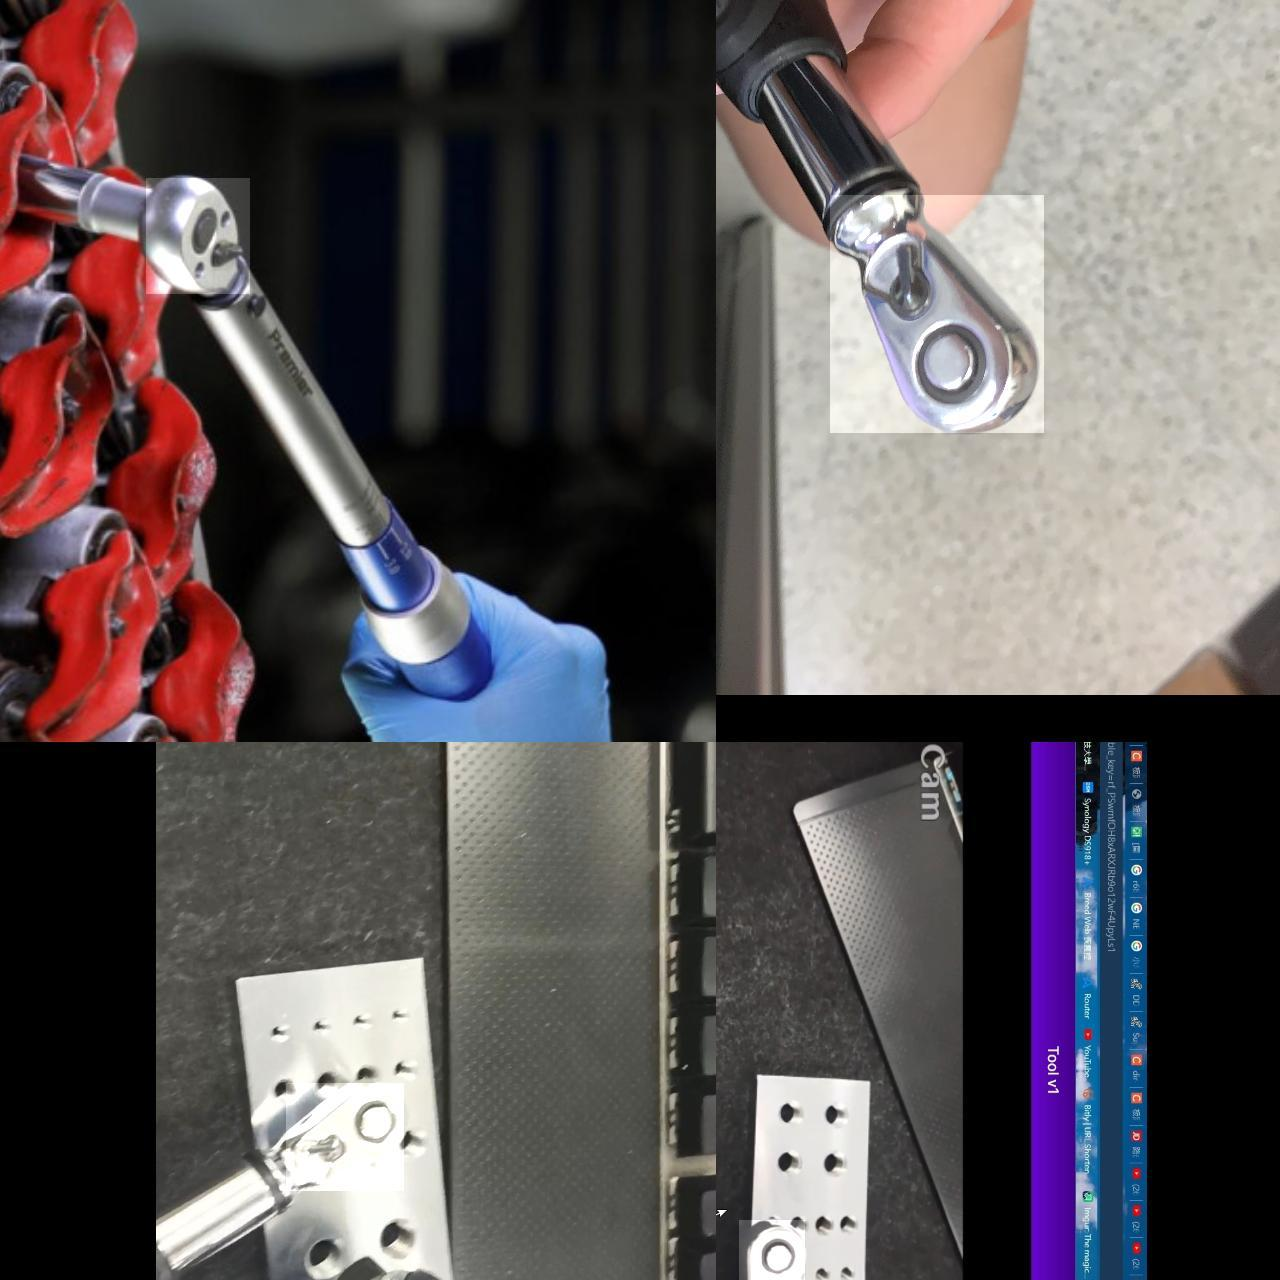Tool: (829, 195, 1043, 433), (285, 1083, 403, 1191), (145, 178, 248, 294), (738, 1220, 804, 1280)
